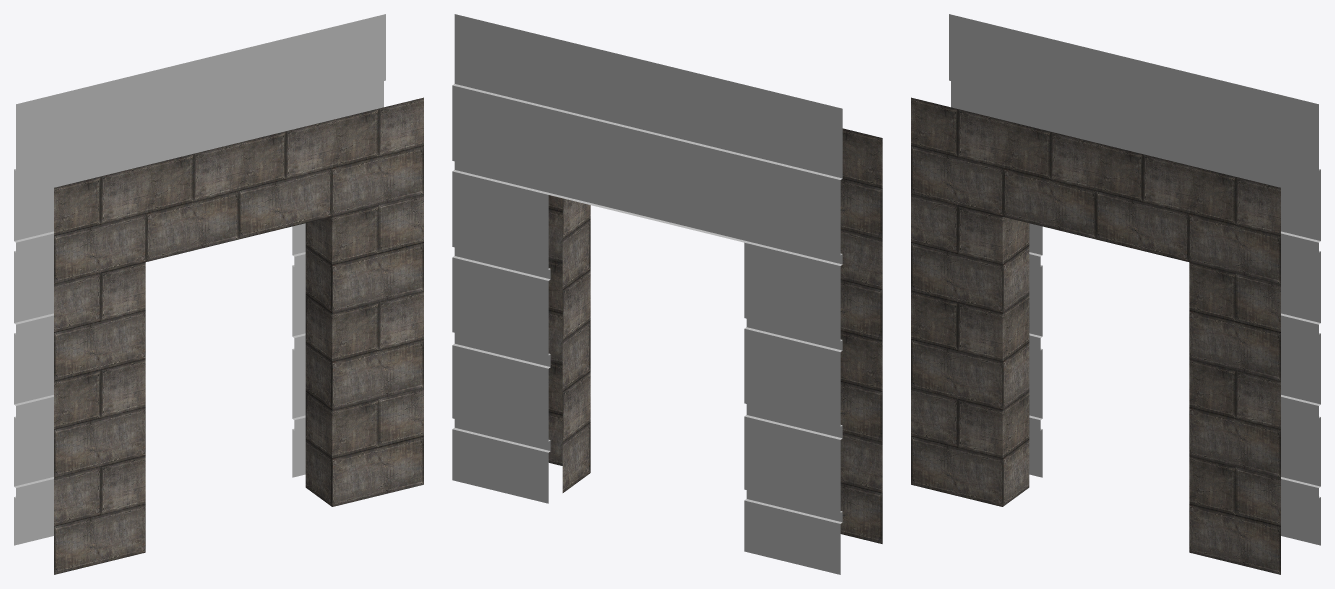
File: exterior_walls_secret_wall.DAE
3 views of the same model, side by side, from view 1: azimuth 30°, elevation 25°; view 2: azimuth 150°, elevation 25°; view 3: azimuth 330°, elevation 25° (orthographic). The views are drawn at different scales.
Visible parts, largest first — view 1: Box025, tunnels_wall; view 2: tunnels_wall, Box025; view 3: Box025, tunnels_wall.
Boxes of the visible parts, left/top/right/bottom form: Box025: left=54, top=97, right=423, bottom=574; tunnels_wall: left=14, top=14, right=385, bottom=545; tunnels_wall: left=452, top=14, right=842, bottom=574; Box025: left=548, top=128, right=882, bottom=543; Box025: left=911, top=97, right=1280, bottom=574; tunnels_wall: left=949, top=14, right=1320, bottom=545.
Size of the model in its own units: 4 by 4.58 by 0.75.
